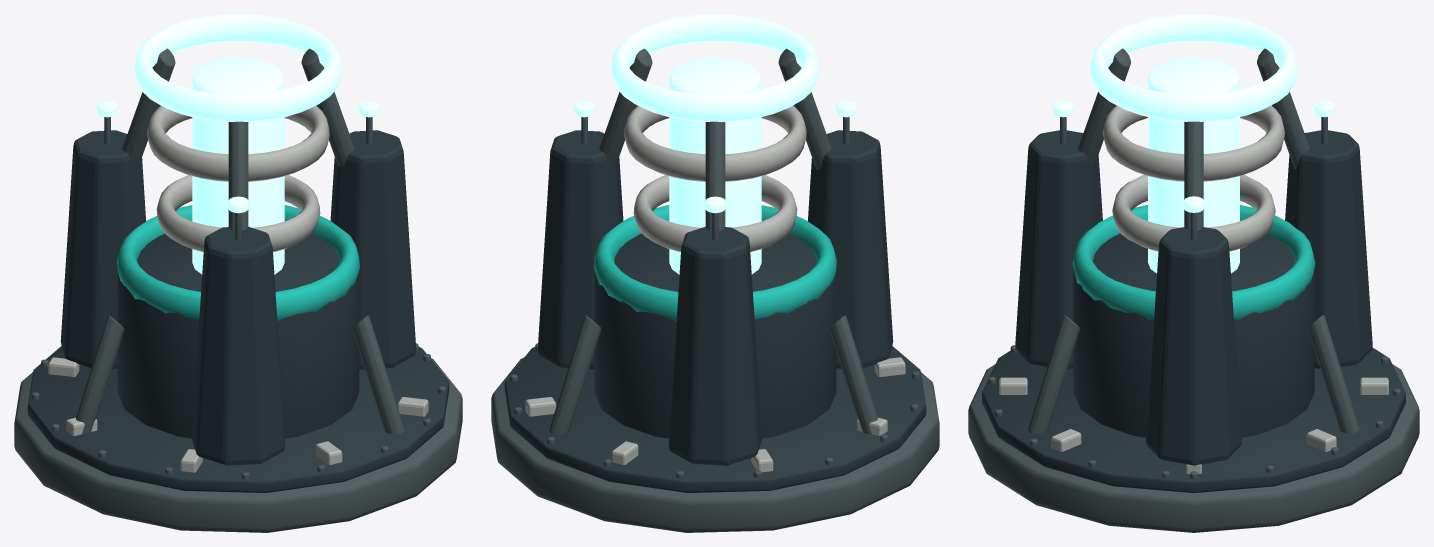
Rendered from SM_Resonator.fbx.
3 views of the same model, side by side, from view 1: azimuth 30°, elevation 25°; view 2: azimuth 150°, elevation 25°; view 3: azimuth 270°, elevation 25° (orthographic).
Visible parts, largest first — view 1: SM_Resonator; view 2: SM_Resonator; view 3: SM_Resonator.
Part boxes in pixels (box(x1,y1,x2,y2)): SM_Resonator: box(14, 14, 462, 532); SM_Resonator: box(491, 14, 939, 532); SM_Resonator: box(968, 14, 1419, 532).
Bounding box in the file's own units: 170 × 170 × 160.
